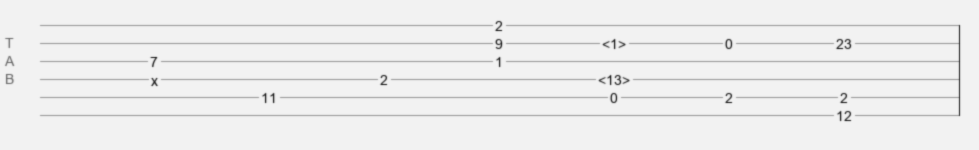0: (610, 90, 618, 100), (725, 36, 733, 46)
1: (495, 54, 503, 64)
11: (261, 90, 277, 100)
12: (836, 108, 852, 118)
2: (380, 72, 388, 82), (495, 18, 503, 28), (725, 90, 733, 100), (840, 90, 848, 100)
23: (836, 36, 852, 46)
7: (150, 54, 158, 64)
9: (495, 36, 503, 46)
harmonic: (598, 72, 630, 82), (602, 36, 626, 46)
x: (151, 73, 158, 81)
